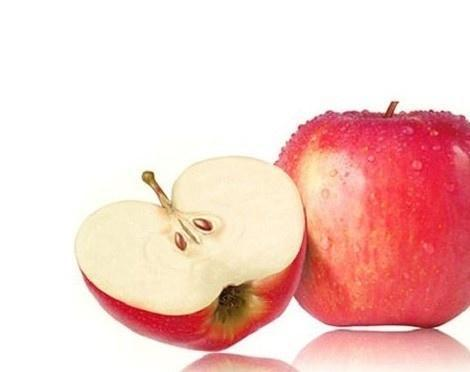apple: (274, 110, 470, 332)
